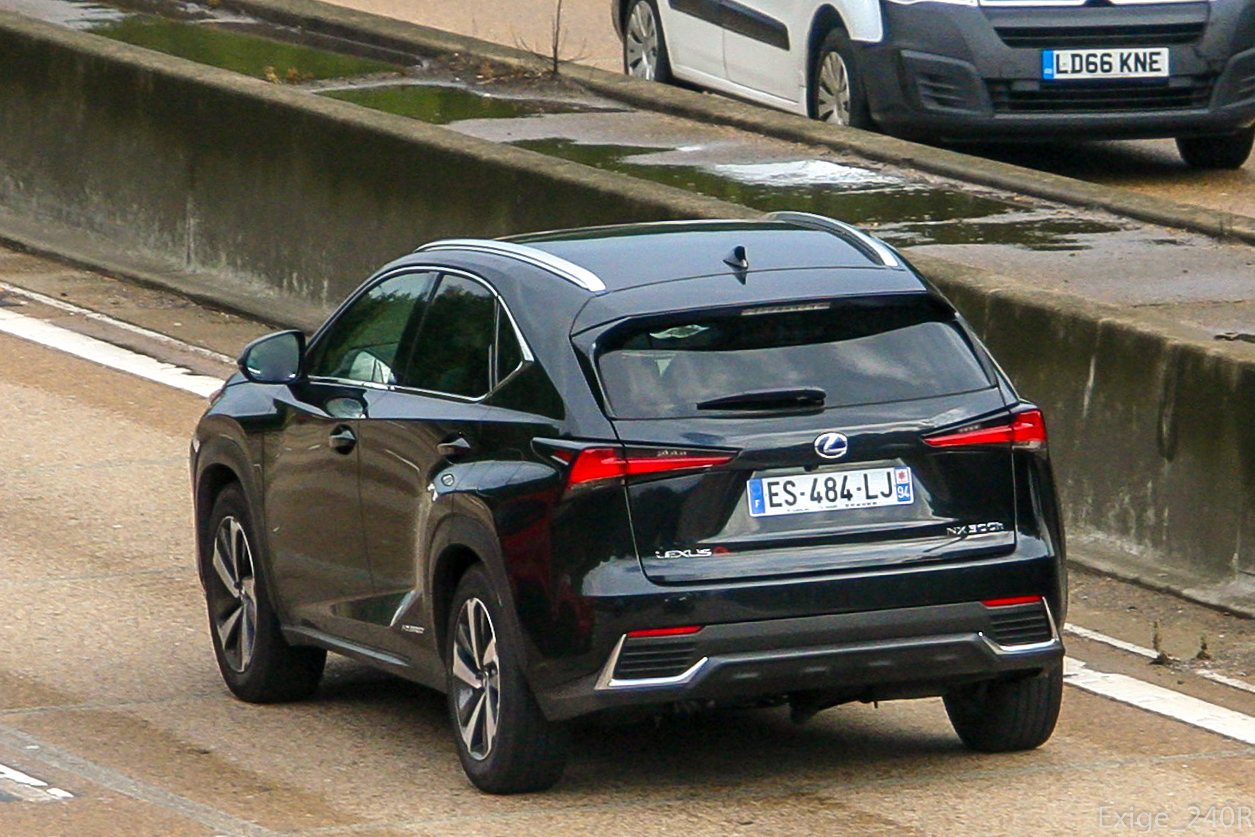licence plate: (742, 462, 918, 520)
